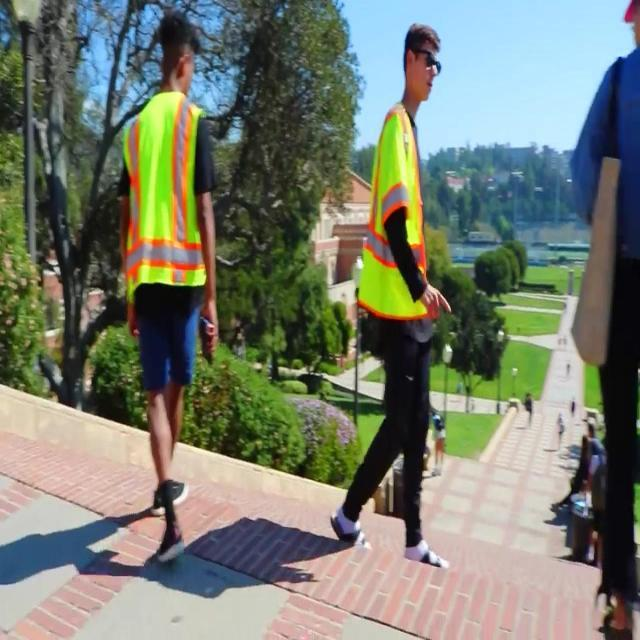reflective_jacket: (110, 85, 222, 319), (350, 99, 440, 333)
